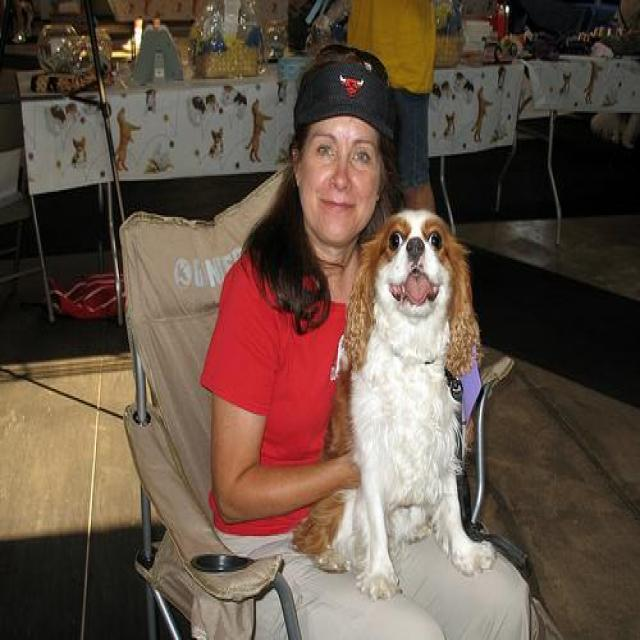blenheim_spaniel: (289, 208, 497, 599)
